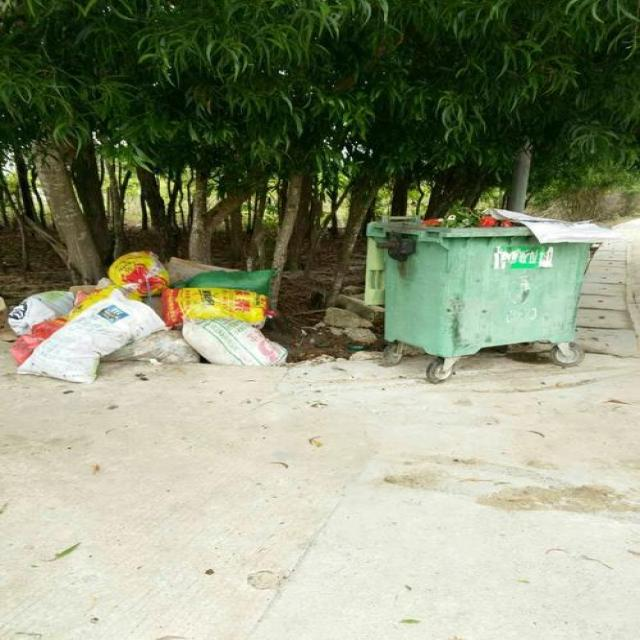garbage: (6, 248, 288, 383)
overflow: (366, 206, 606, 358)
